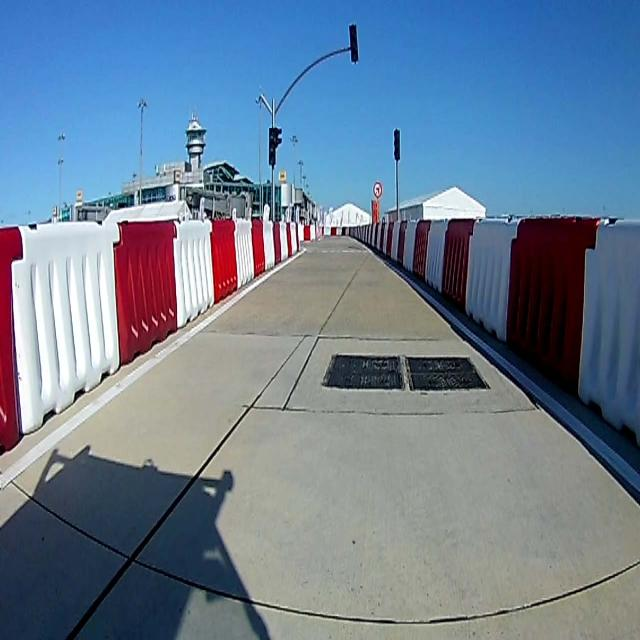soladonulmez: (372, 182, 382, 198)
